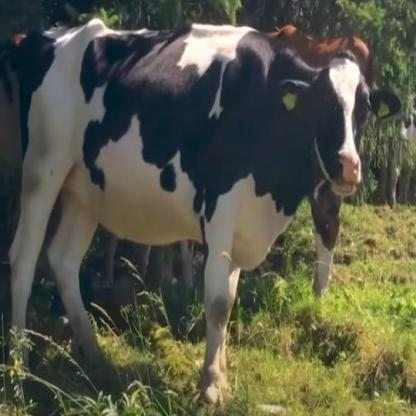cow: (8, 16, 401, 410), (259, 22, 377, 292), (379, 93, 416, 204)
